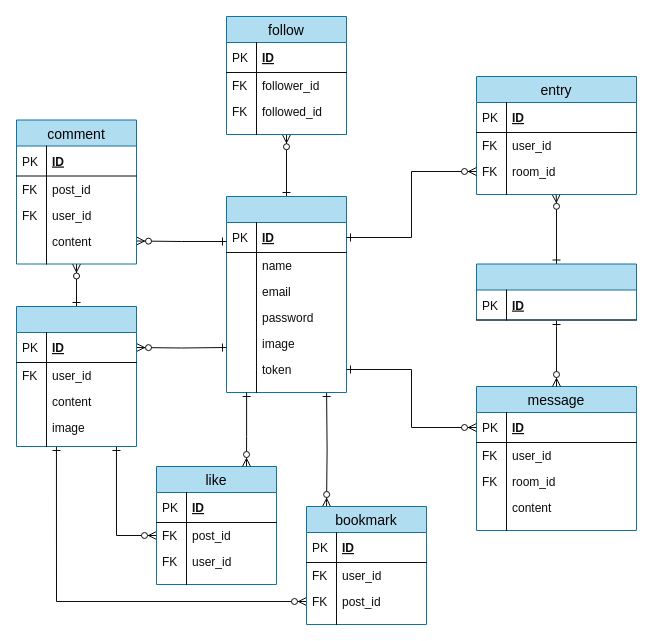
Image size: 653x641. Some labels were removed from this diagram. Here are the shapes that lost their labels. From the top down, the box of each, then its label:
(226, 196, 346, 392): user
(476, 263, 636, 320): room
(16, 306, 136, 446): post
